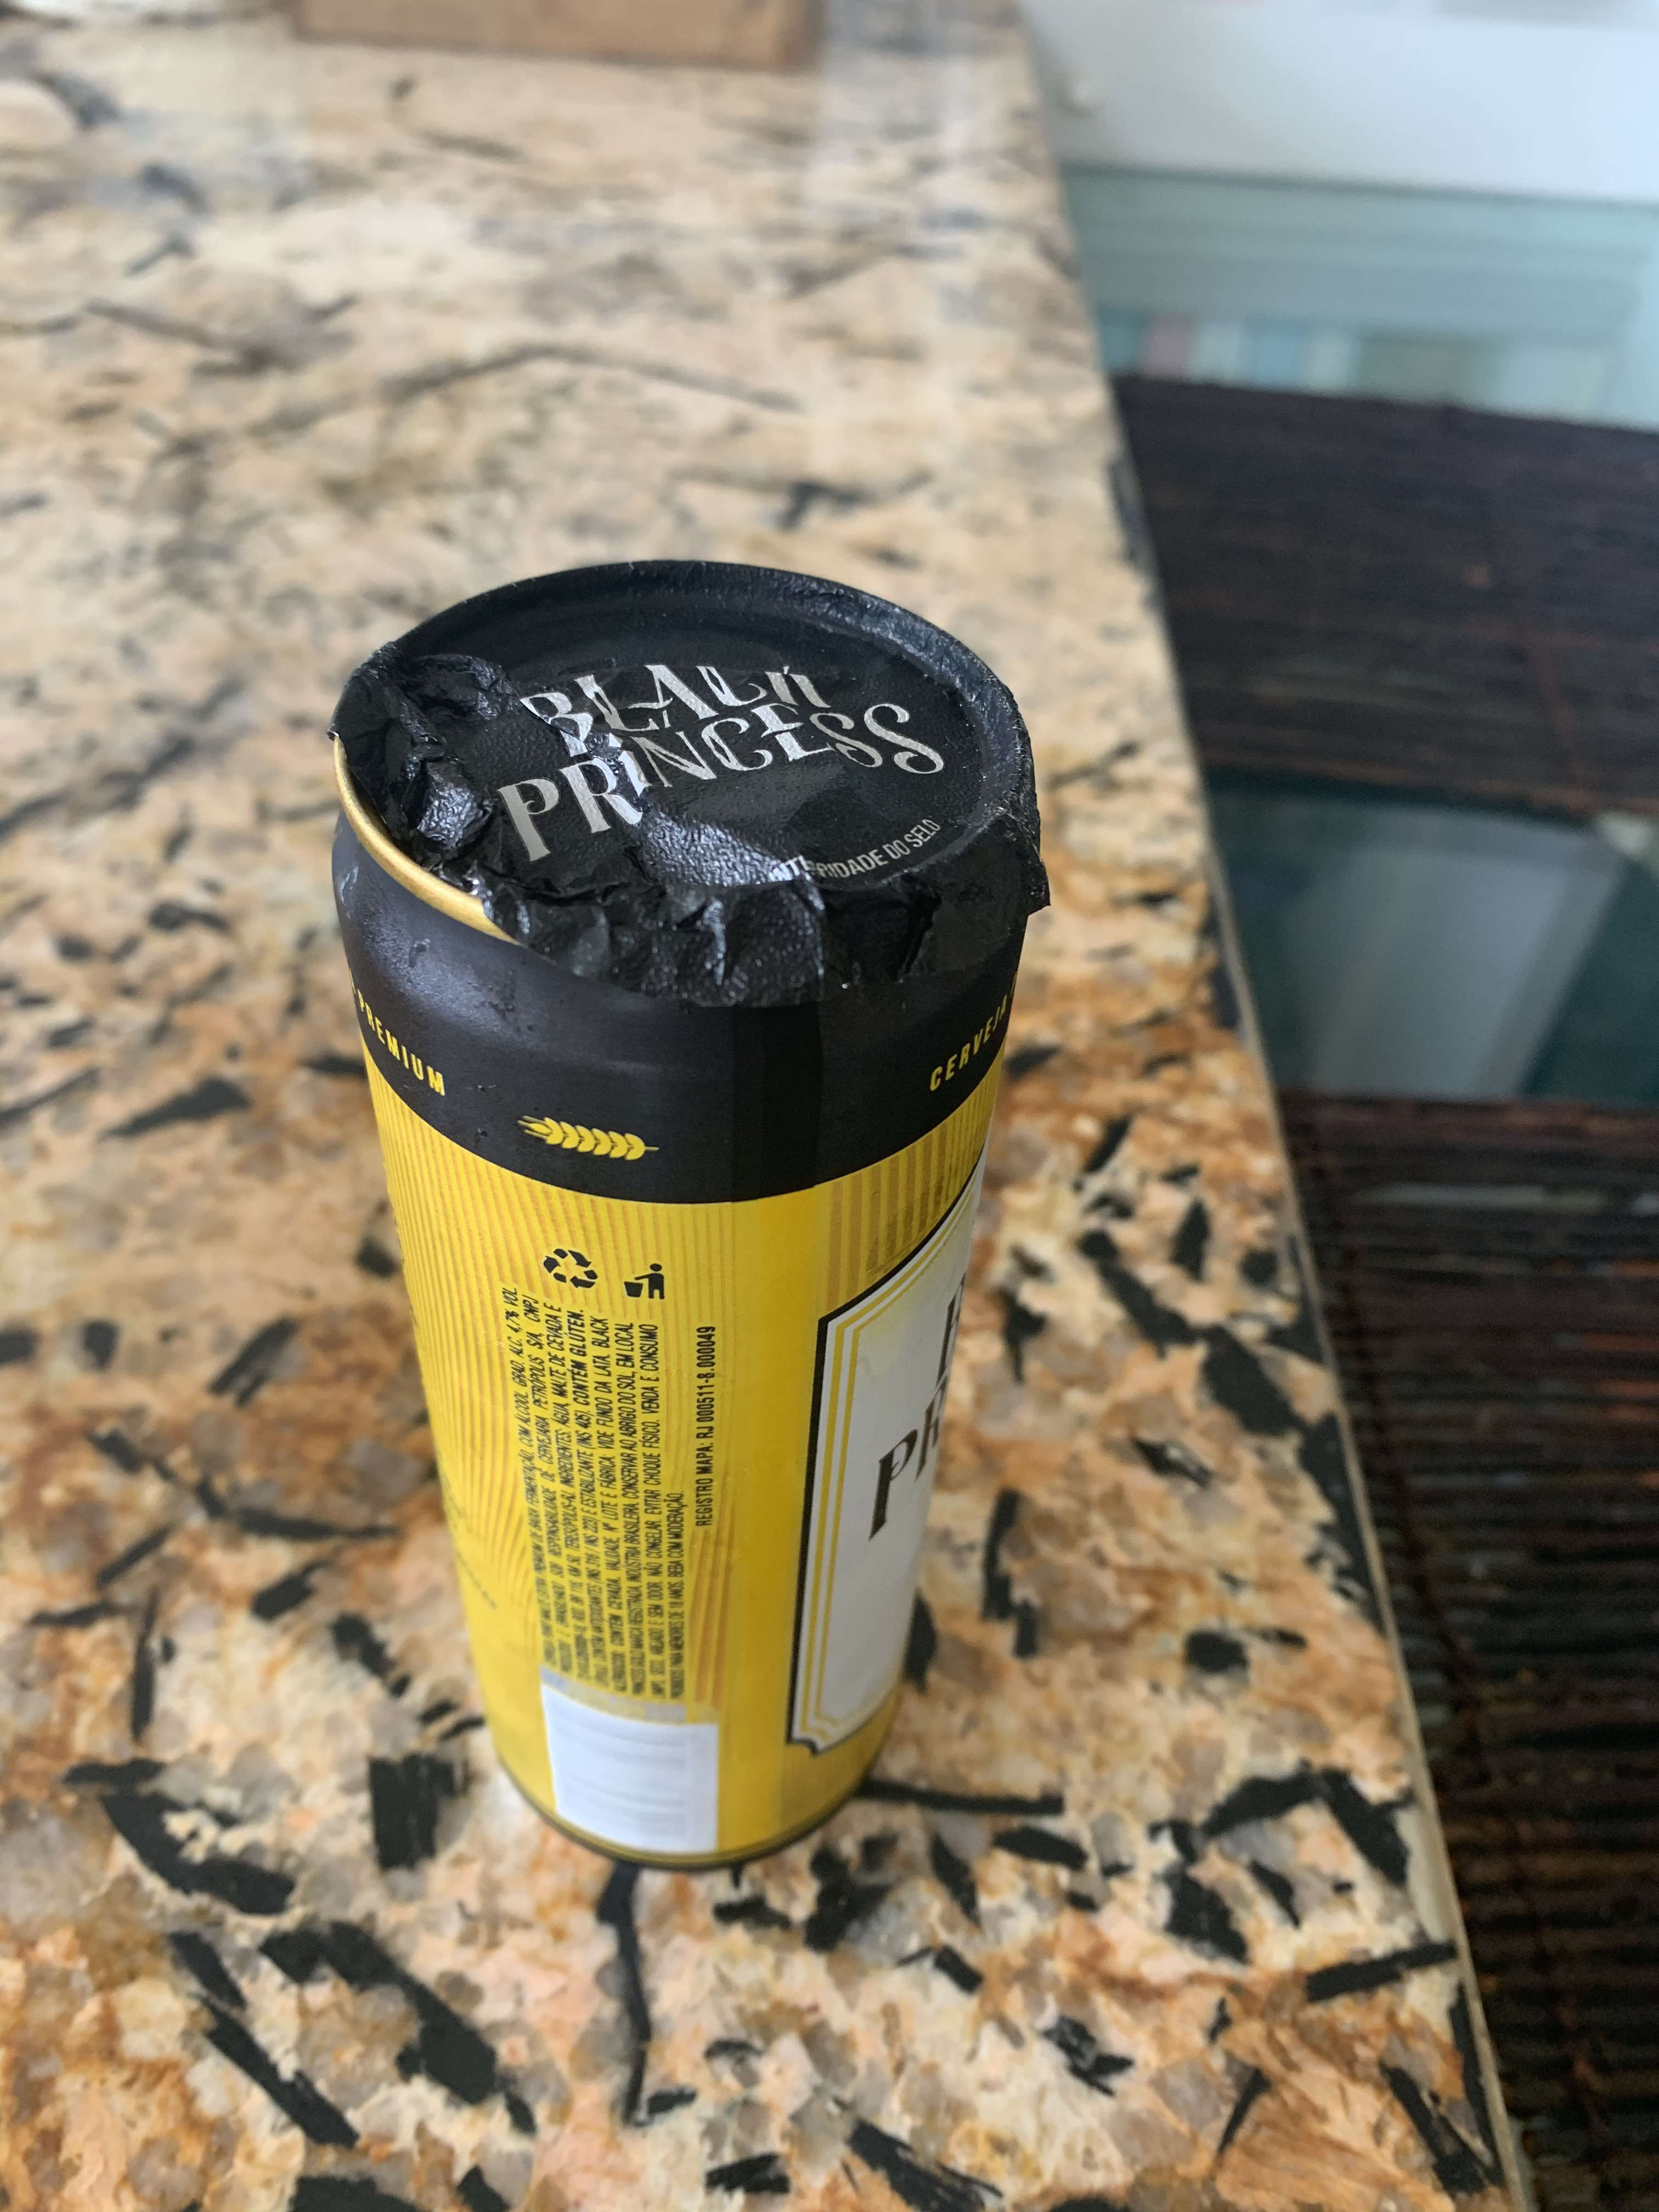blackprincess: (242, 425, 1086, 1940)
